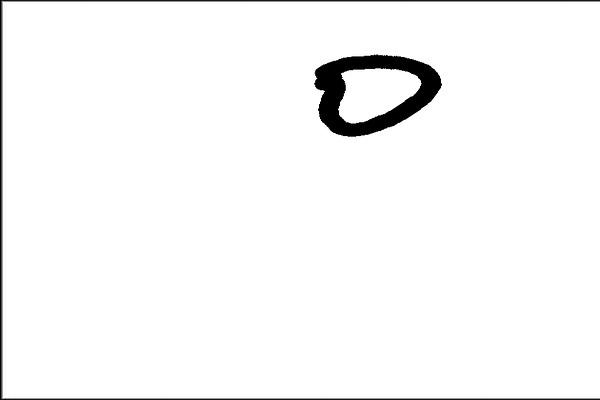O: (307, 50, 446, 144)
